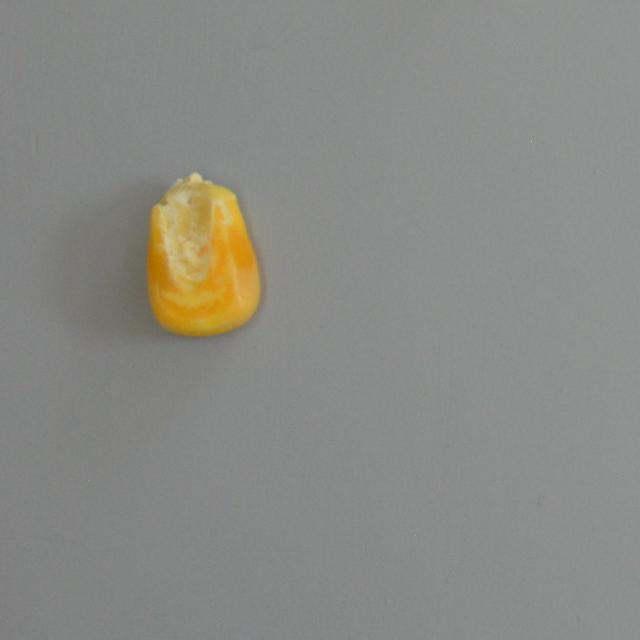entero: (142, 172, 262, 336)
